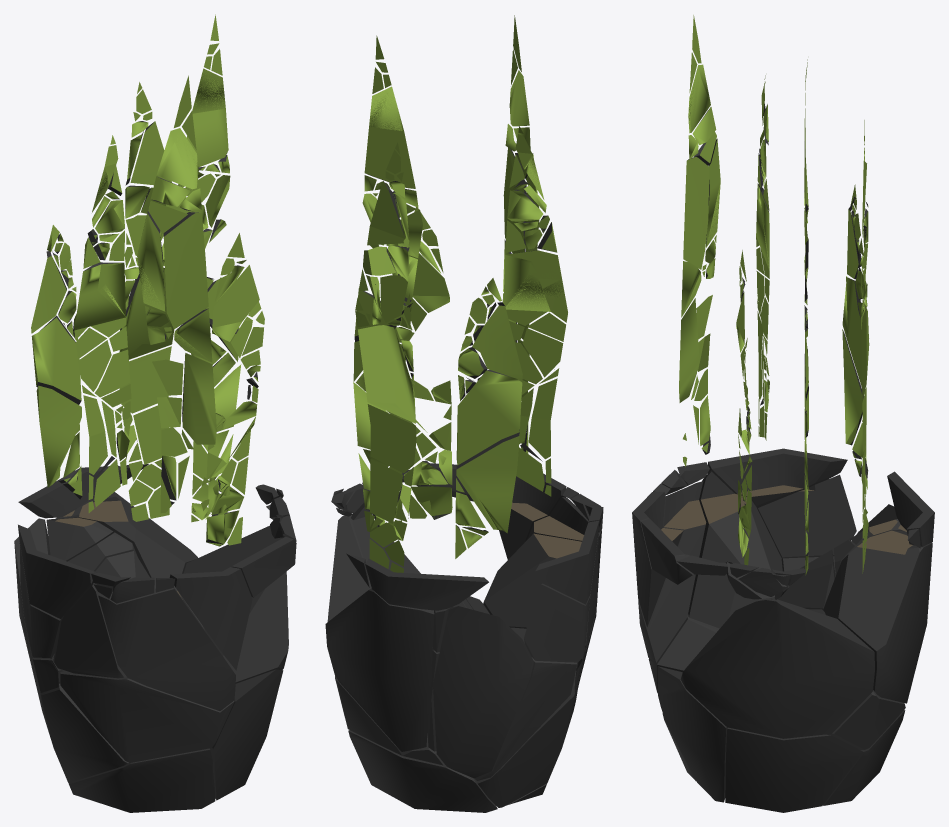
File: Houseplant_4.fbx
3 views of the same model, side by side, from view 1: azimuth 30°, elevation 25°; view 2: azimuth 150°, elevation 25°; view 3: azimuth 270°, elevation 25° (orthographic). The views are drawn at different scales.
Parts seen in each view (by area): view 1: Houseplant_4_cell.030, Houseplant_4_cell.011, Houseplant_4_cell.024, Houseplant_4_cell.028, Houseplant_4_cell.017, Houseplant_4_cell.008, Houseplant_4_cell, Houseplant_4_cell.091, Houseplant_4_cell.003, Houseplant_4_cell.007, Houseplant_4_cell.074, Houseplant_4_cell.073 (+40 smaller); view 2: Houseplant_4_cell.012, Houseplant_4_cell.003, Houseplant_4_cell.041, Houseplant_4_cell.007, Houseplant_4_cell.073, Houseplant_4_cell, Houseplant_4_cell.039, Houseplant_4_cell.099, Houseplant_4_cell.042, Houseplant_4_cell.033, Houseplant_4_cell.058, Houseplant_4_cell.028 (+33 smaller); view 3: Houseplant_4_cell.028, Houseplant_4_cell.003, Houseplant_4_cell.021, Houseplant_4_cell.007, Houseplant_4_cell.039, Houseplant_4_cell.017, Houseplant_4_cell.030, Houseplant_4_cell.074, Houseplant_4_cell.008, Houseplant_4_cell.091, Houseplant_4_cell.067, Houseplant_4_cell.041 (+15 smaller).
Boxes of the visible parts, left/top/right/bottom form: Houseplant_4_cell.030: left=98, top=582, right=235, bottom=710; Houseplant_4_cell.011: left=60, top=671, right=234, bottom=762; Houseplant_4_cell.024: left=68, top=748, right=215, bottom=812; Houseplant_4_cell.028: left=183, top=525, right=288, bottom=683; Houseplant_4_cell.017: left=210, top=669, right=283, bottom=800; Houseplant_4_cell.008: left=169, top=567, right=252, bottom=670; Houseplant_4_cell: left=41, top=683, right=128, bottom=782; Houseplant_4_cell.091: left=163, top=212, right=208, bottom=329; Houseplant_4_cell.003: left=56, top=492, right=197, bottom=582; Houseplant_4_cell.007: left=53, top=581, right=126, bottom=678; Houseplant_4_cell.074: left=18, top=524, right=96, bottom=618; Houseplant_4_cell.073: left=31, top=315, right=81, bottom=404; Houseplant_4_cell.012: left=433, top=606, right=533, bottom=778; Houseplant_4_cell.003: left=325, top=588, right=434, bottom=751; Houseplant_4_cell.041: left=348, top=730, right=497, bottom=812; Houseplant_4_cell.007: left=483, top=532, right=598, bottom=647; Houseplant_4_cell.073: left=456, top=369, right=522, bottom=465; Houseplant_4_cell: left=476, top=671, right=580, bottom=807; Houseplant_4_cell.039: left=524, top=583, right=590, bottom=662; Houseplant_4_cell.099: left=358, top=325, right=415, bottom=423; Houseplant_4_cell.042: left=474, top=627, right=576, bottom=780; Houseplant_4_cell.033: left=456, top=429, right=519, bottom=533; Houseplant_4_cell.058: left=365, top=558, right=488, bottom=610; Houseplant_4_cell.028: left=327, top=515, right=420, bottom=621; Houseplant_4_cell.028: left=680, top=599, right=874, bottom=738; Houseplant_4_cell.003: left=823, top=530, right=932, bottom=703; Houseplant_4_cell.021: left=725, top=727, right=862, bottom=812; Houseplant_4_cell.007: left=688, top=471, right=782, bottom=628; Houseplant_4_cell.039: left=757, top=474, right=856, bottom=558; Houseplant_4_cell.017: left=657, top=666, right=727, bottom=802; Houseplant_4_cell.030: left=638, top=481, right=706, bottom=662; Houseplant_4_cell.074: left=707, top=448, right=847, bottom=508; Houseplant_4_cell.008: left=632, top=491, right=683, bottom=626; Houseplant_4_cell.091: left=683, top=156, right=709, bottom=269; Houseplant_4_cell.067: left=807, top=609, right=905, bottom=749; Houseplant_4_cell.041: left=823, top=710, right=905, bottom=805.
Size of the model in its own units: 33.83 by 92.84 by 33.83.
